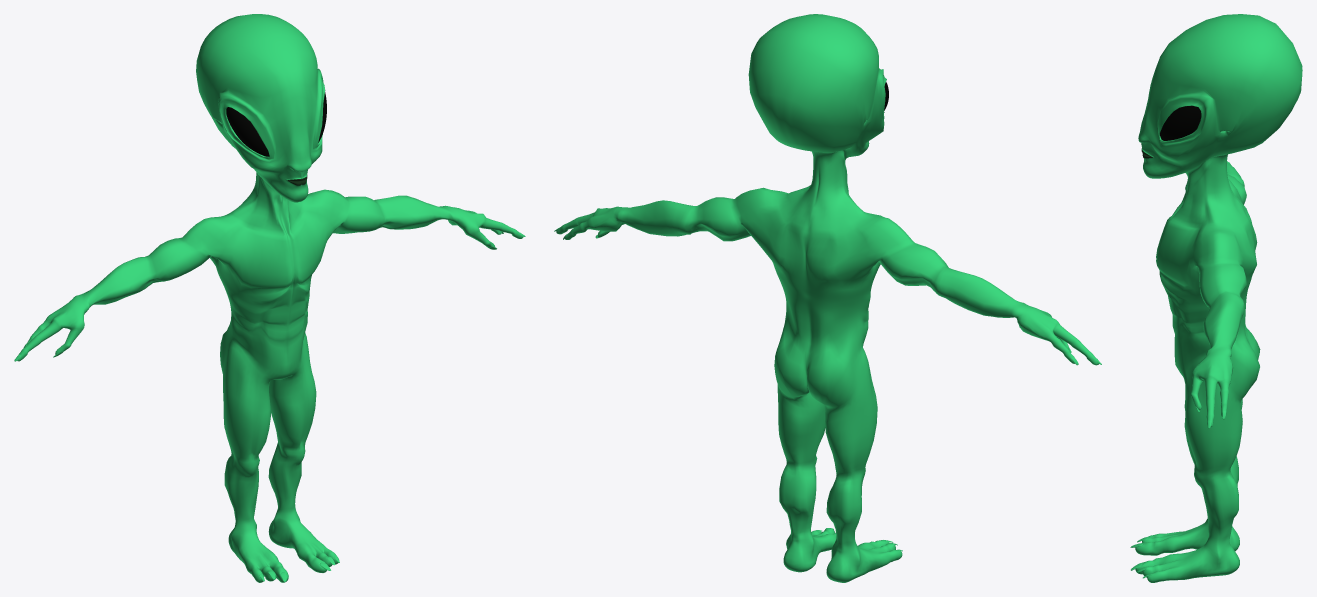
File: textures_and_color_neil_medium.obj
The picture shows the model from 3 angles, left to right: view 1: azimuth 30°, elevation 25°; view 2: azimuth 150°, elevation 25°; view 3: azimuth 270°, elevation 25°; orthographic projection. The views are drawn at different scales.
Visible parts, largest first — view 1: Body; view 2: Body; view 3: Body.
Part boxes in pixels (x1=…): Body: x1=14, y1=14, x2=525, y2=582; Body: x1=554, y1=14, x2=1101, y2=582; Body: x1=1130, y1=14, x2=1302, y2=582.
Size of the model in its own units: 1.82 by 1.78 by 0.5108.
